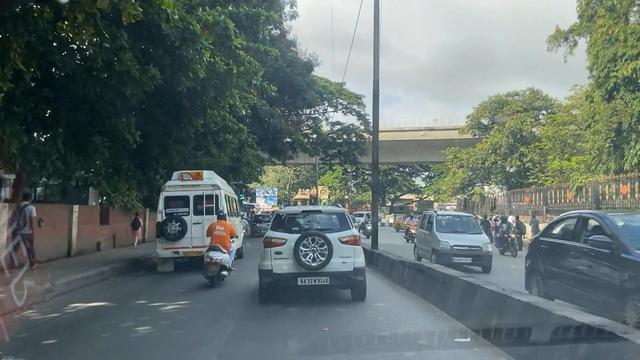HMV: (152, 163, 246, 285)
LMV: (254, 207, 384, 335), (198, 202, 237, 300)
